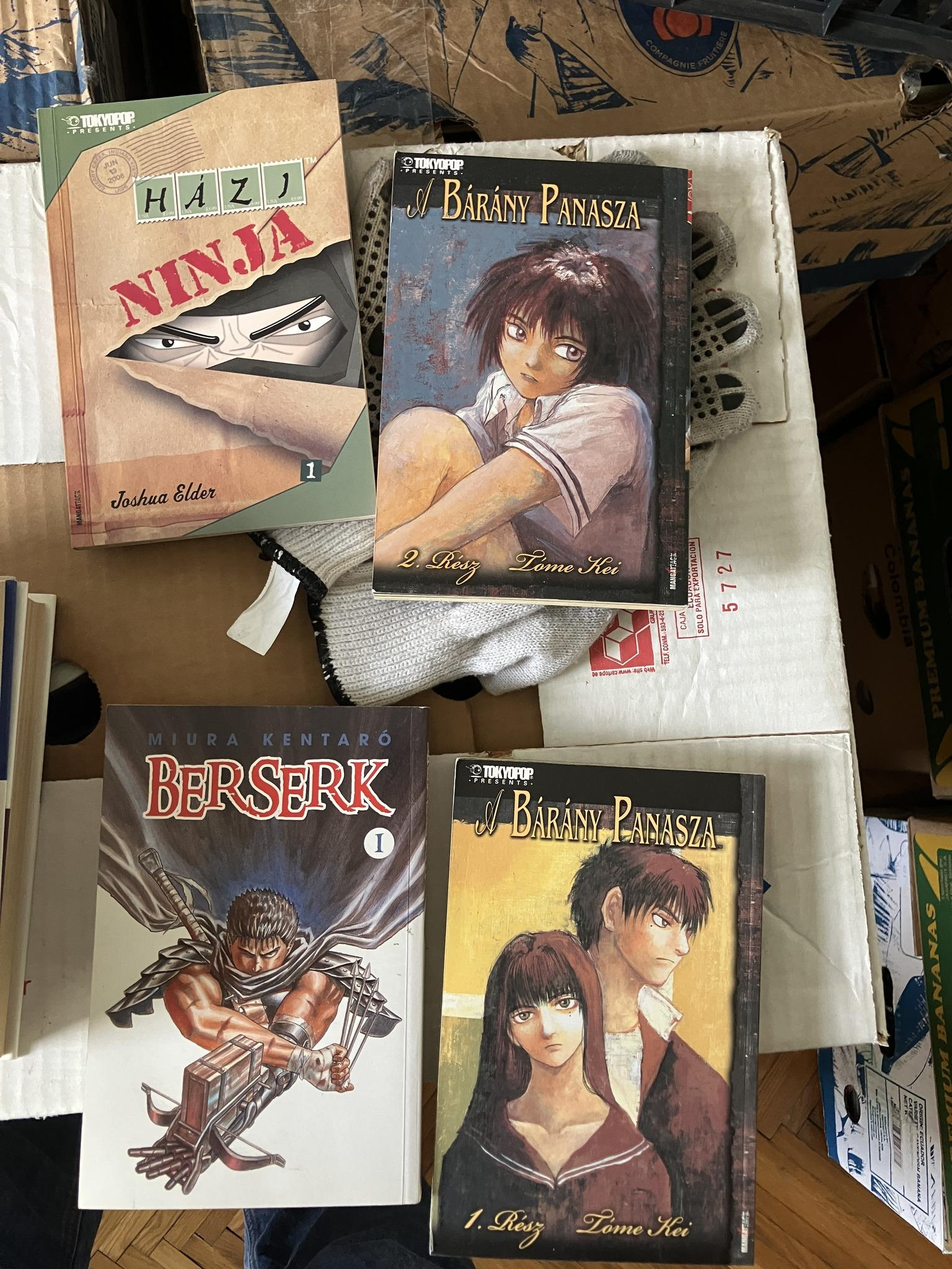comic: (79, 703, 427, 1213), (430, 757, 771, 1269), (28, 80, 379, 548), (372, 152, 705, 609)
